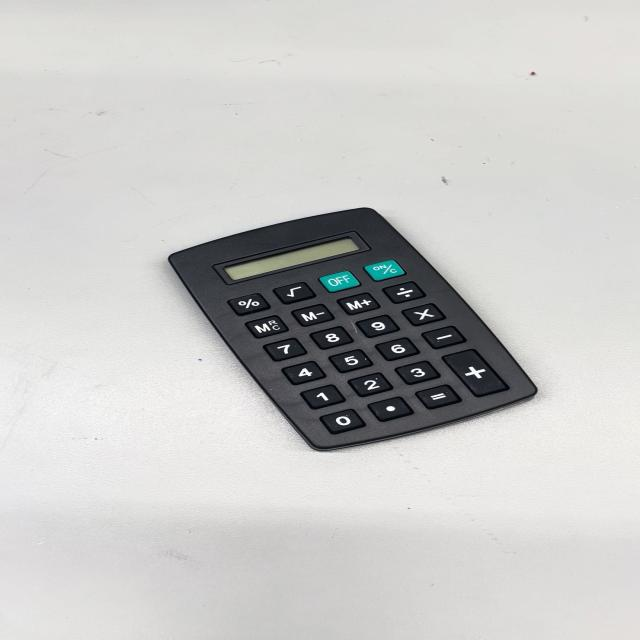calculator: (164, 206, 541, 453)
